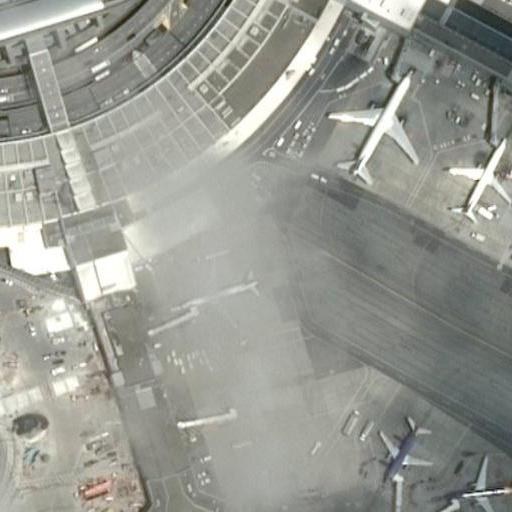Aircraft: (324, 66, 424, 188), (362, 402, 437, 485), (438, 139, 512, 220), (443, 447, 512, 510)
